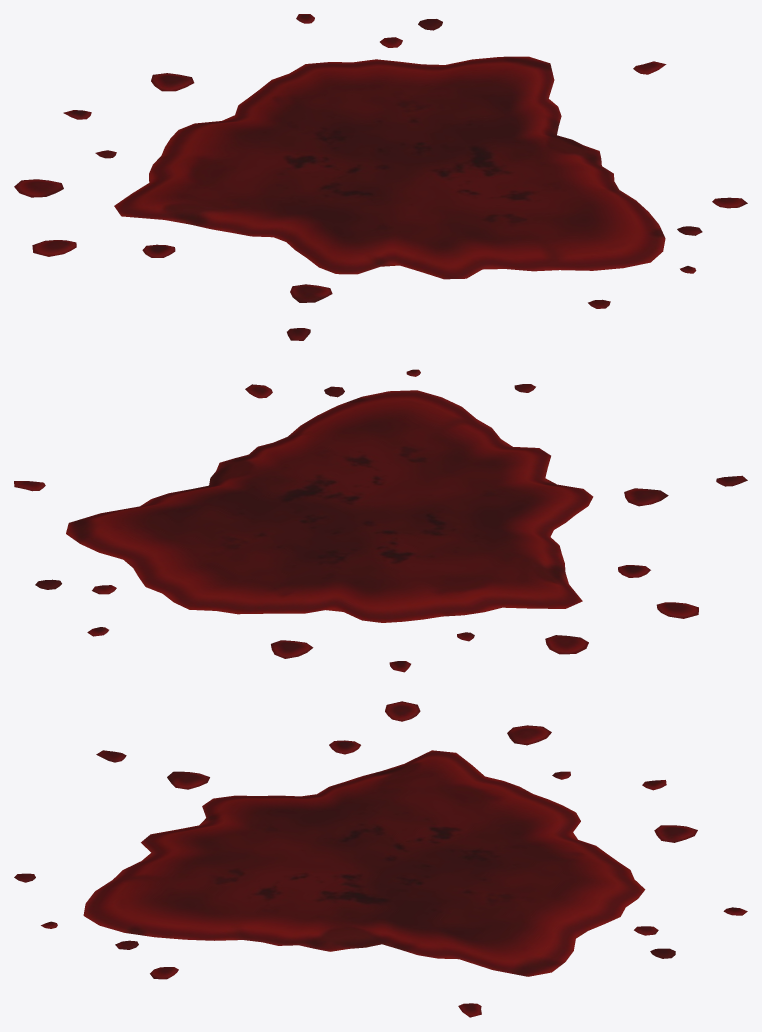
Rendered from decal_blood.glb.
3 renders of one model, top to bottom at view 1: azimuth 30°, elevation 25°; view 2: azimuth 150°, elevation 25°; view 3: azimuth 270°, elevation 25°, orthographic. The views are drawn at different scales.
Parts seen in each view (by area): view 1: decal_blood; view 2: decal_blood; view 3: decal_blood.
Boxes of the visible parts, x1=… form: decal_blood: x1=14, y1=14, x2=747, y2=340; decal_blood: x1=14, y1=369, x2=747, y2=672; decal_blood: x1=14, y1=701, x2=747, y2=1017.
Bounding box in the file's own units: 1.69 × 0.014 × 1.66.
Materials: 1 (1 with a texture image).
